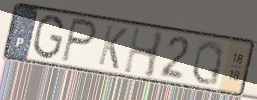2: (159, 34, 191, 81)
G: (31, 13, 66, 60)
H: (121, 24, 167, 81)
K: (95, 23, 129, 72)
P: (59, 16, 99, 66)
Q: (189, 38, 226, 89)
